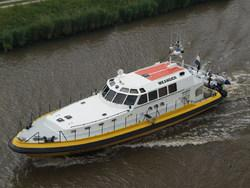yacht: (10, 35, 226, 162)
